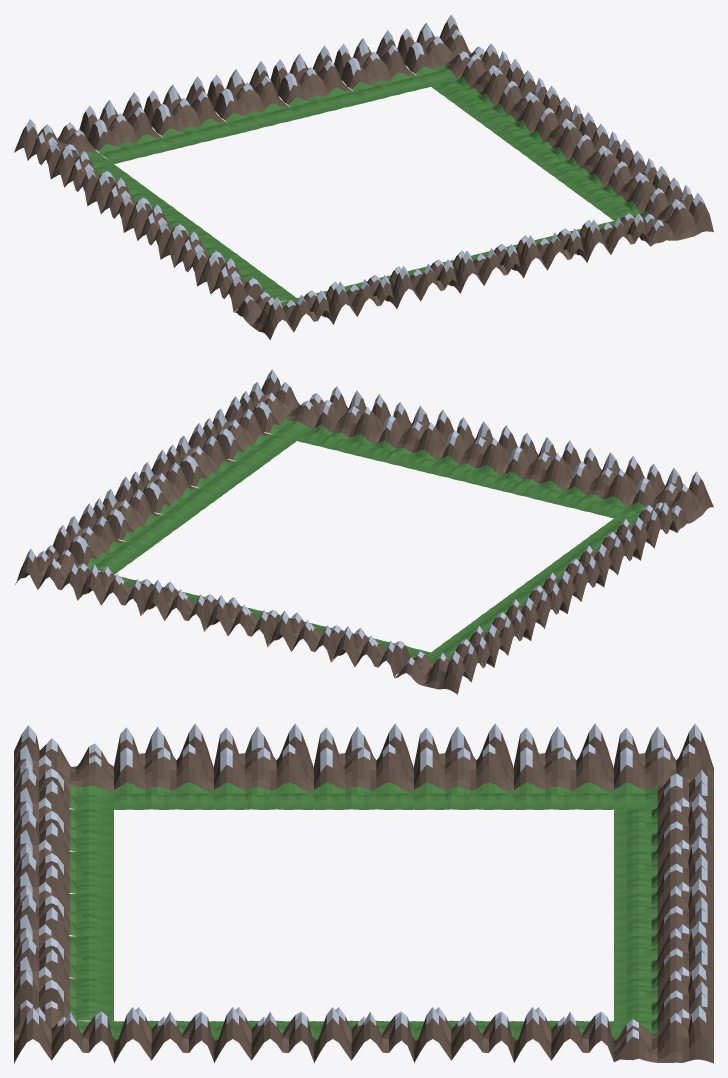
The model's file is MountainLargeFinal.fbx.
3 renders of one model, top to bottom at view 1: azimuth 30°, elevation 25°; view 2: azimuth 150°, elevation 25°; view 3: azimuth 270°, elevation 25°, orthographic. The views are drawn at different scales.
Visible parts, largest first — view 1: Plane; view 2: Plane; view 3: Plane.
Boxes of the visible parts, x1,y1,x2,y2 form: Plane: (14,14,713,339); Plane: (14,369,713,694); Plane: (14,723,713,1063).
Bounding box in the file's own units: 7002 × 564 × 7002.
